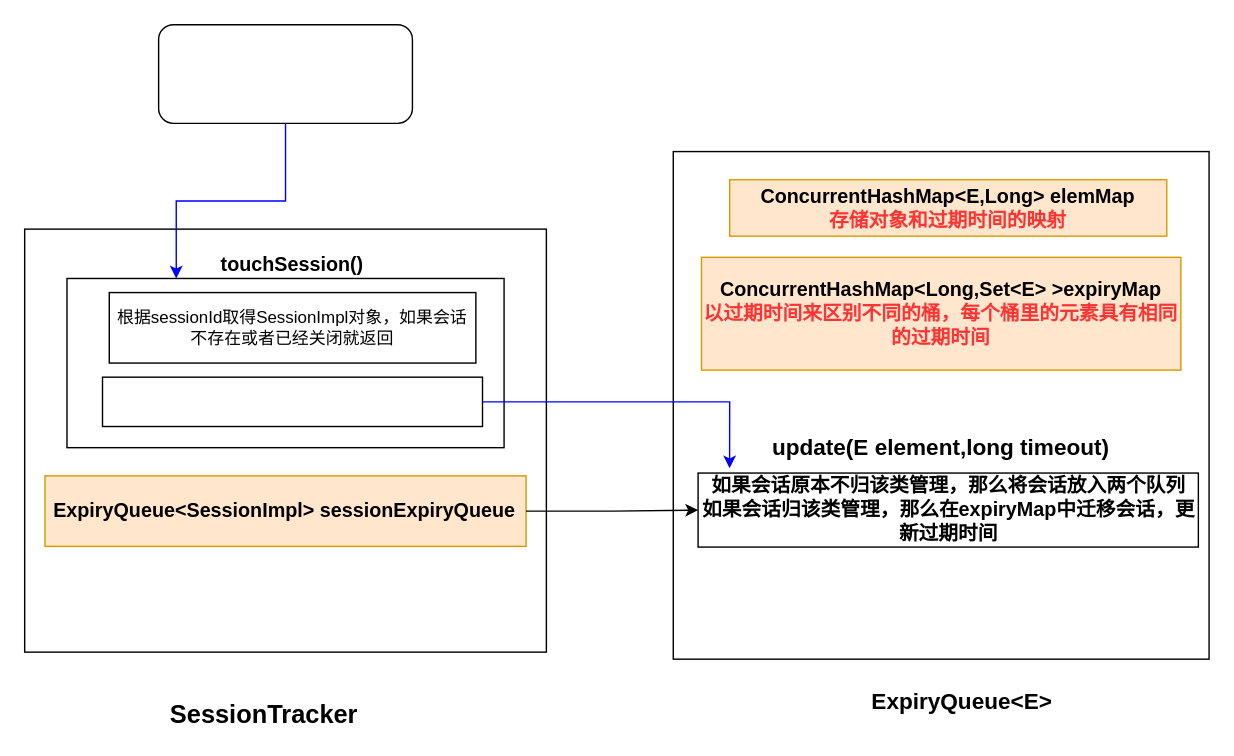
Image size: 1234x756. Some labels were removed from this diagram. Each missing label, with the box of its shape:
接收到Client的心跳检测: (157, 23, 412, 123)
调用updateSessionExpiry()更新seesionExpiryQueue: (101, 376, 483, 427)
